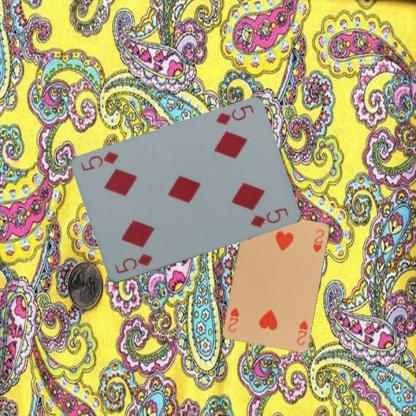2h: (294, 318, 309, 346)
5d: (212, 102, 256, 127), (112, 251, 154, 275)
